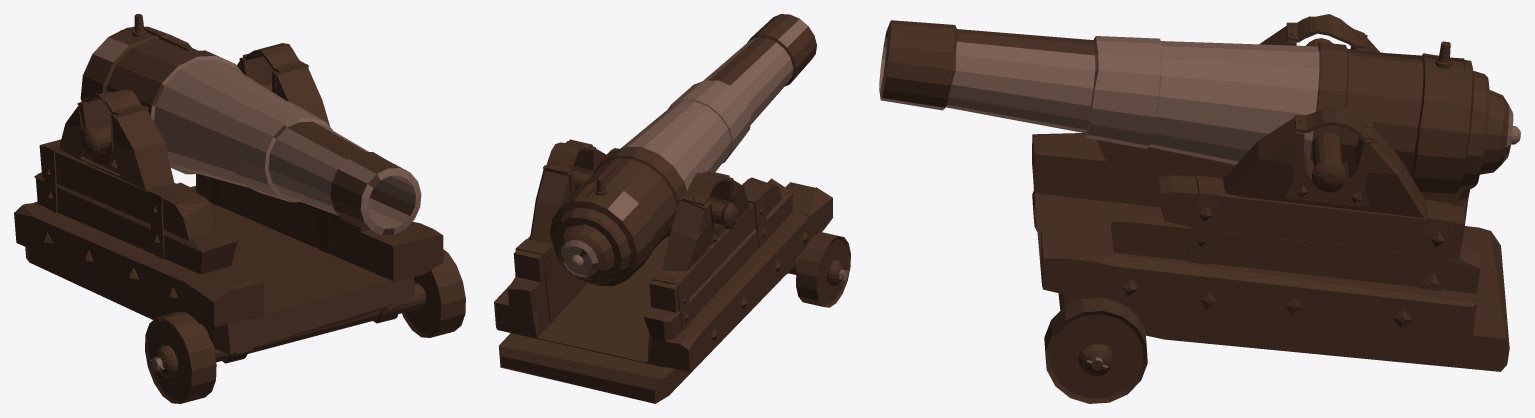
The model's file is cannon.fbx.
3 renders of one model, left to right at view 1: azimuth 30°, elevation 25°; view 2: azimuth 150°, elevation 25°; view 3: azimuth 270°, elevation 25°, orthographic. The views are drawn at different scales.
Parts seen in each view (by area): view 1: polySurface170, polySurface208, polySurface212, polySurface211, polySurface210, polySurface179, polySurface191, polySurface206, polySurface207, polySurface202, polySurface182, polySurface192 (+1 smaller); view 2: polySurface170, polySurface208, polySurface212, polySurface185, polySurface206, polySurface202, polySurface207, polySurface182, polySurface191, polySurface179, polySurface192, polySurface210; view 3: polySurface170, polySurface208, polySurface211, polySurface185, polySurface188, polySurface193, polySurface207, polySurface202, polySurface206, polySurface192, polySurface210.
Boxes of the visible parts, x1,y1,x2,y2 form: polySurface170: [14, 61, 443, 354]; polySurface208: [80, 26, 421, 235]; polySurface212: [145, 312, 216, 403]; polySurface211: [402, 249, 465, 337]; polySurface210: [150, 283, 426, 377]; polySurface179: [149, 182, 193, 259]; polySurface191: [77, 99, 149, 163]; polySurface206: [243, 43, 305, 73]; polySurface207: [79, 81, 272, 158]; polySurface202: [82, 90, 144, 115]; polySurface182: [42, 141, 60, 212]; polySurface192: [239, 56, 308, 83]; polySurface170: [494, 148, 833, 403]; polySurface208: [550, 14, 816, 286]; polySurface212: [796, 232, 850, 307]; polySurface185: [515, 239, 556, 324]; polySurface206: [545, 139, 592, 173]; polySurface202: [682, 170, 729, 206]; polySurface207: [572, 170, 737, 229]; polySurface182: [651, 271, 690, 330]; polySurface191: [678, 171, 733, 233]; polySurface179: [744, 189, 767, 247]; polySurface192: [543, 141, 595, 176]; polySurface210: [788, 254, 848, 286]; polySurface170: [1032, 26, 1509, 371]; polySurface208: [879, 20, 1520, 197]; polySurface211: [1044, 297, 1147, 403]; polySurface185: [1418, 199, 1454, 291]; polySurface188: [1188, 175, 1220, 264]; polySurface193: [1284, 135, 1369, 206]; polySurface207: [1306, 38, 1345, 192]; polySurface202: [1286, 14, 1365, 48]; polySurface206: [1294, 106, 1373, 140]; polySurface192: [1296, 132, 1373, 197]; polySurface210: [1079, 344, 1112, 375].
Bounding box in the file's own units: 6.04 × 4.89 × 9.5.
